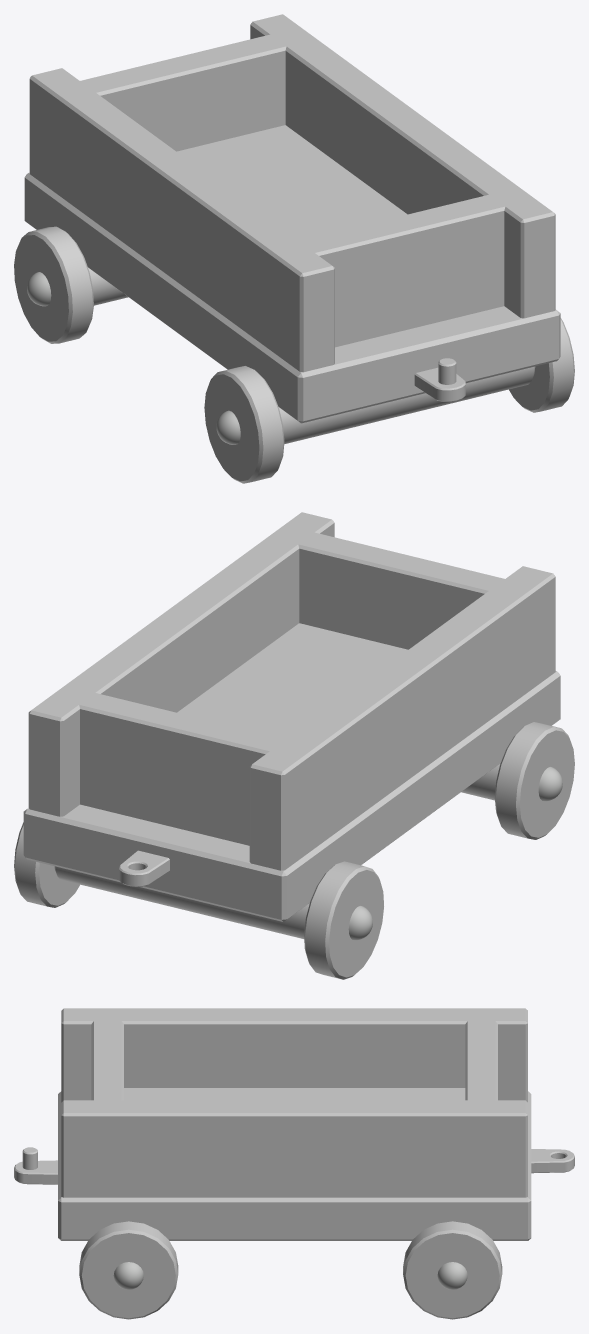
The model's file is WoodenTrainToy_TrainCar_01.fbx.
3 renders of one model, top to bottom at view 1: azimuth 30°, elevation 25°; view 2: azimuth 150°, elevation 25°; view 3: azimuth 270°, elevation 25°, orthographic. The views are drawn at different scales.
Parts seen in each view (by area): view 1: TrainCar01; view 2: TrainCar01; view 3: TrainCar01.
Boxes of the visible parts, left/top/right/bottom form: TrainCar01: left=14, top=14, right=574, bottom=483; TrainCar01: left=14, top=512, right=574, bottom=979; TrainCar01: left=14, top=1008, right=574, bottom=1319.
Bounding box in the file's own units: 11.02 × 7 × 18.34.
